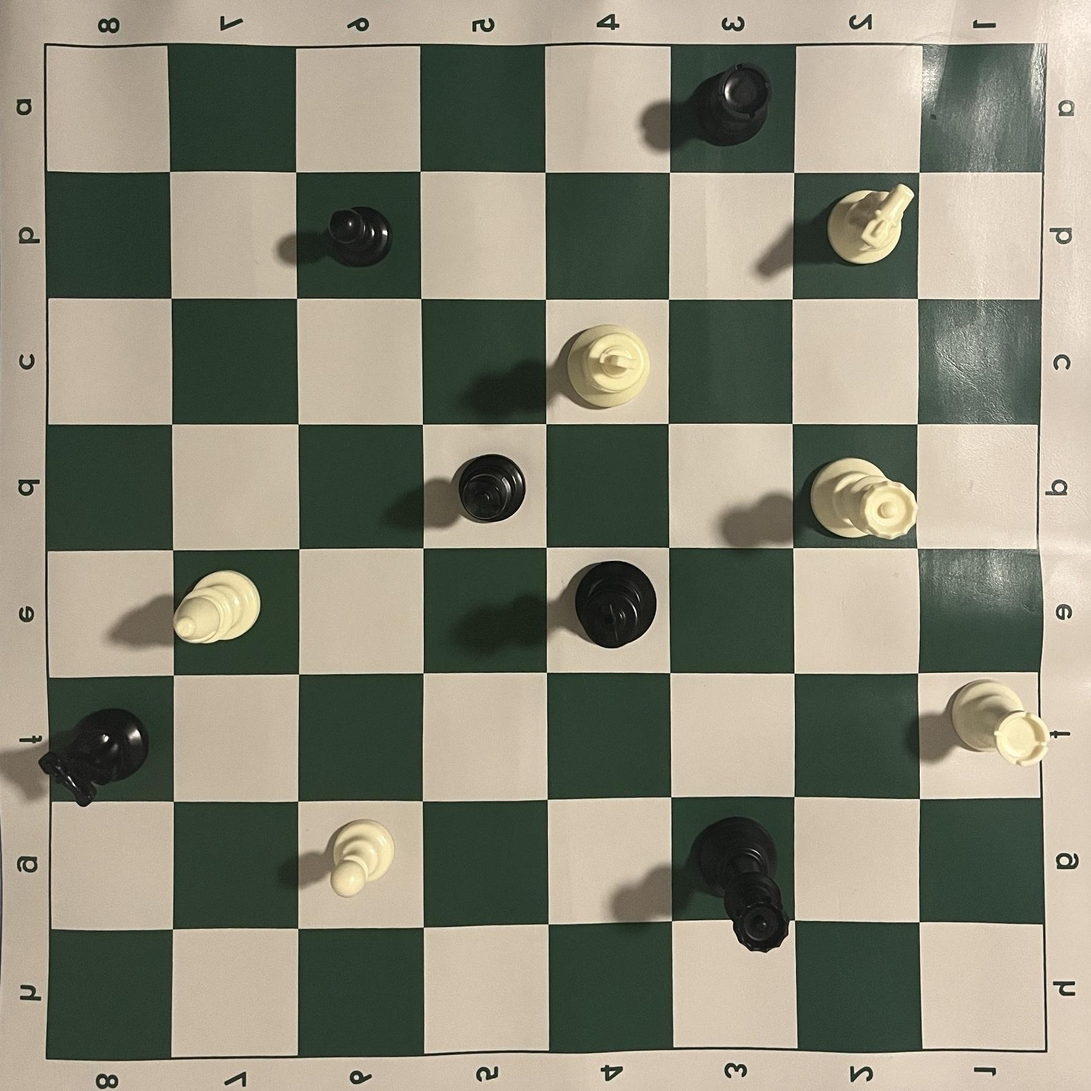black_bishop: (458, 454, 527, 523)
black_king: (574, 560, 658, 650)
black_knight: (38, 708, 149, 808)
black_pawn: (327, 205, 393, 268)
black_queen: (689, 816, 792, 954)
black_rook: (683, 62, 772, 147)
white_bishop: (173, 570, 261, 645)
white_king: (567, 323, 652, 410)
white_knight: (825, 183, 916, 266)
white_pawn: (329, 819, 395, 898)
white_queen: (811, 457, 920, 539)
white_rook: (949, 679, 1054, 769)
